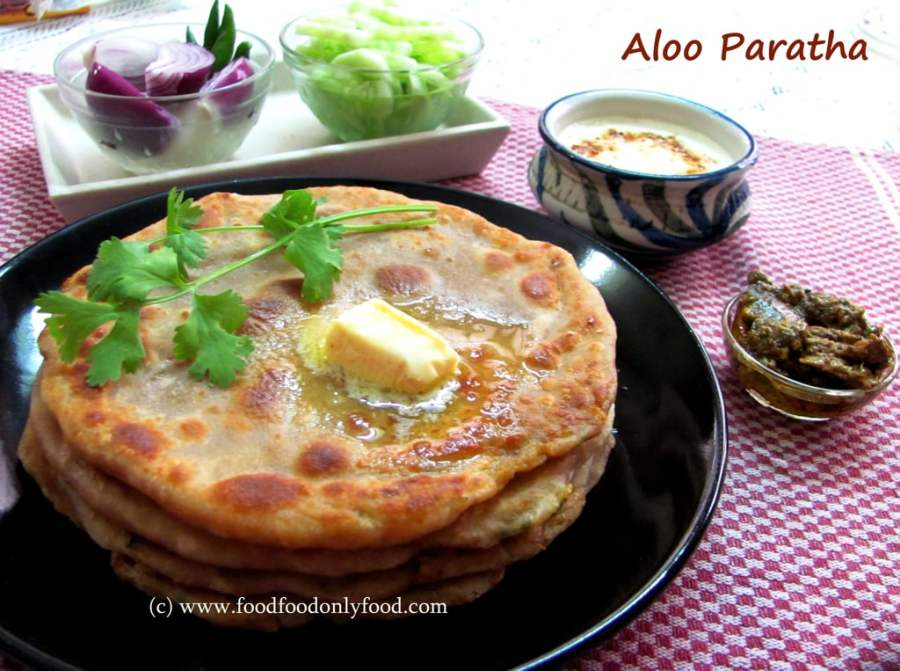aloo_paratha: (21, 190, 620, 615)
